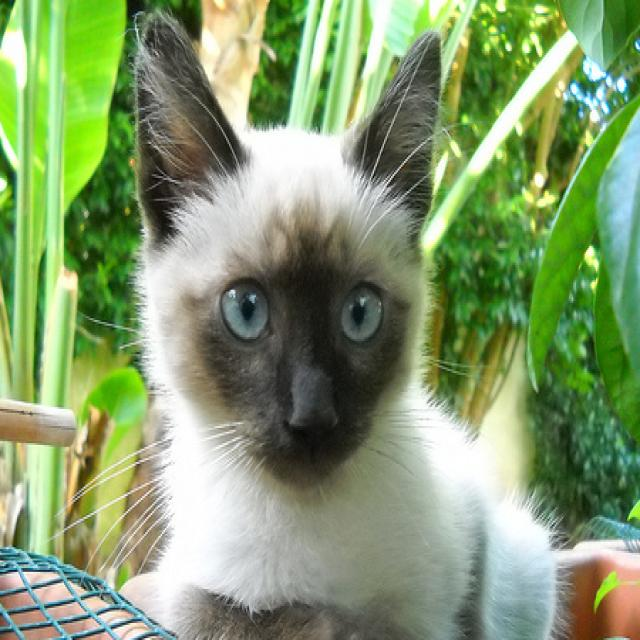Siamese: (118, 9, 566, 640)
